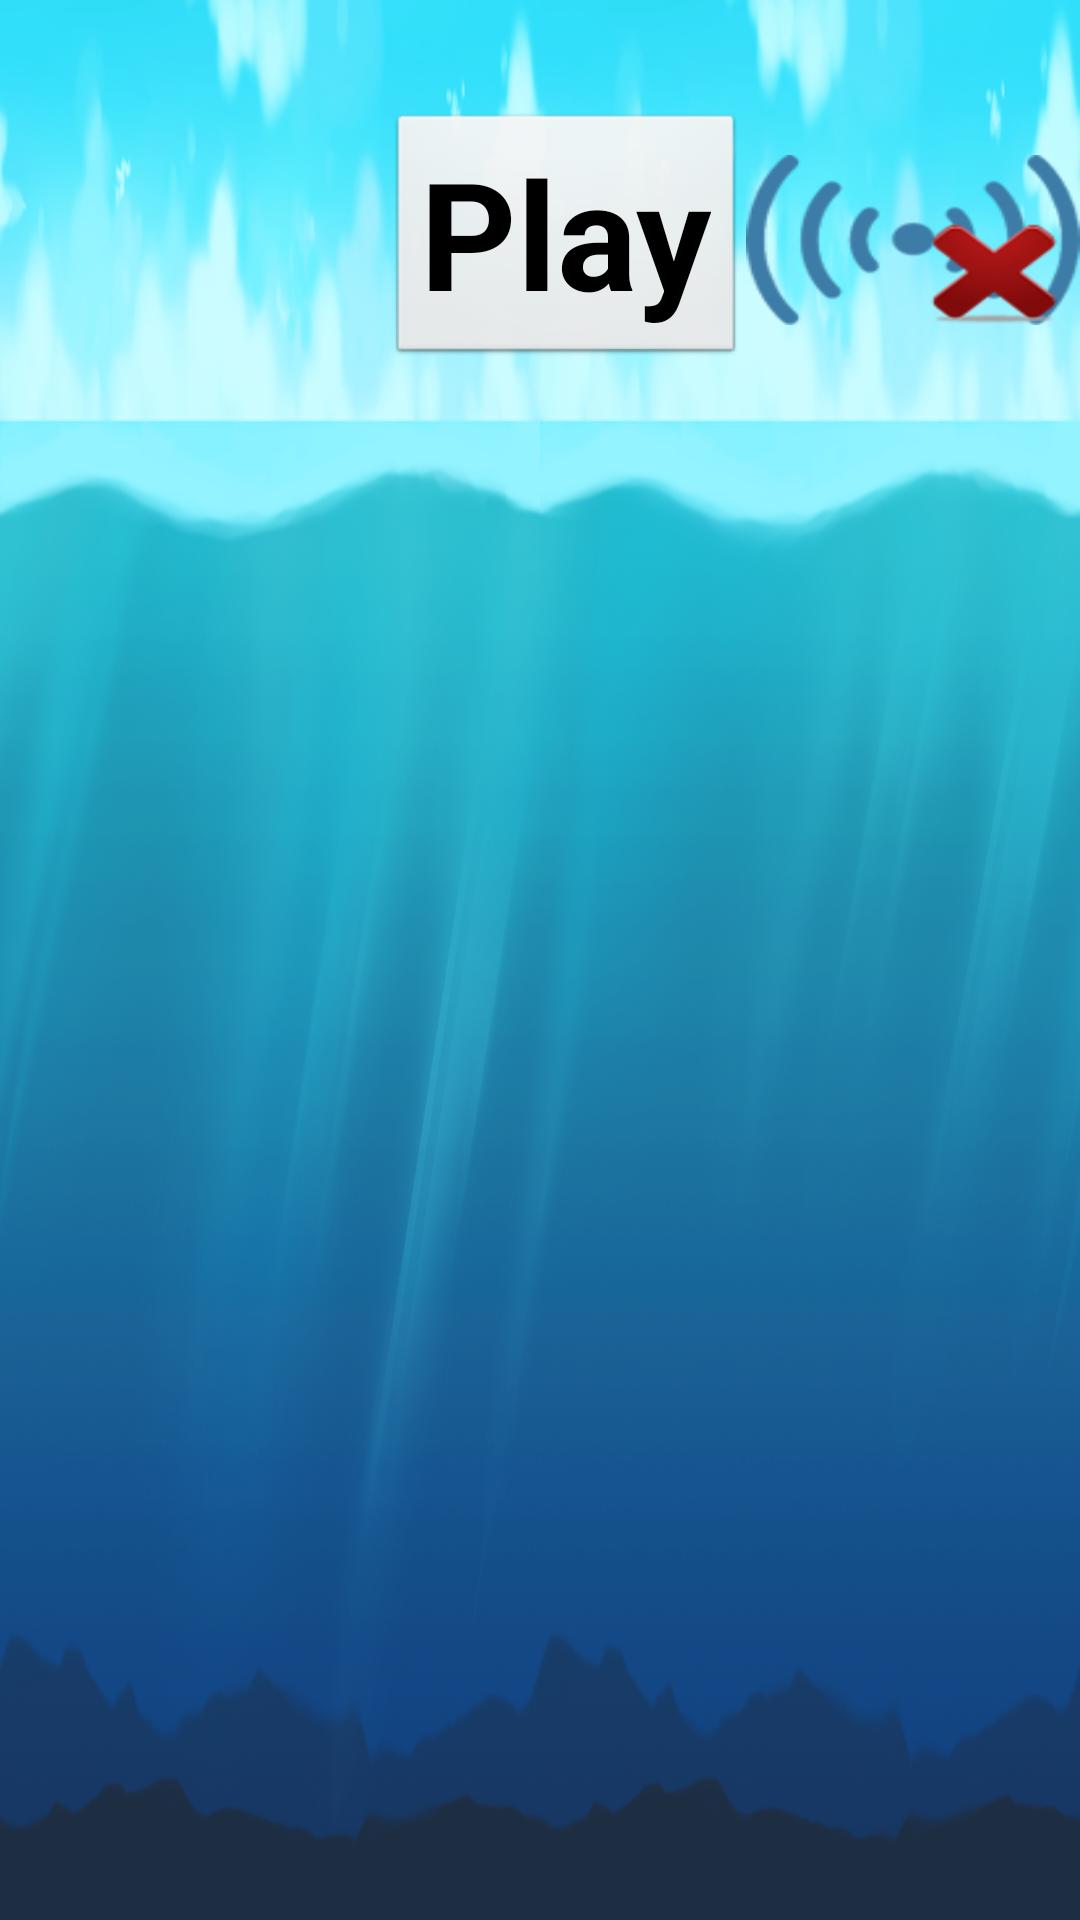

Screen size 1080w x 1920h. Icon name, then its center in pixels as [x,y]:
connection no: [913,240]
